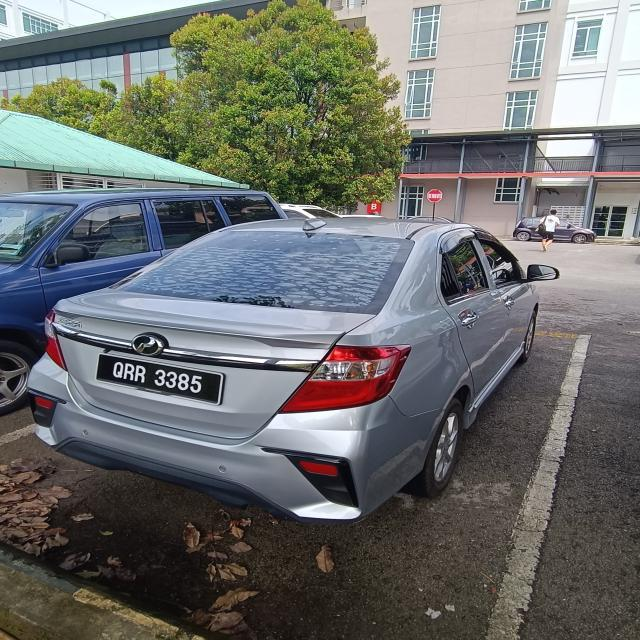PeroduaBezza: (24, 214, 558, 525)
